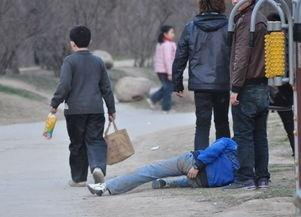Fall-Detected: (84, 131, 243, 195)
